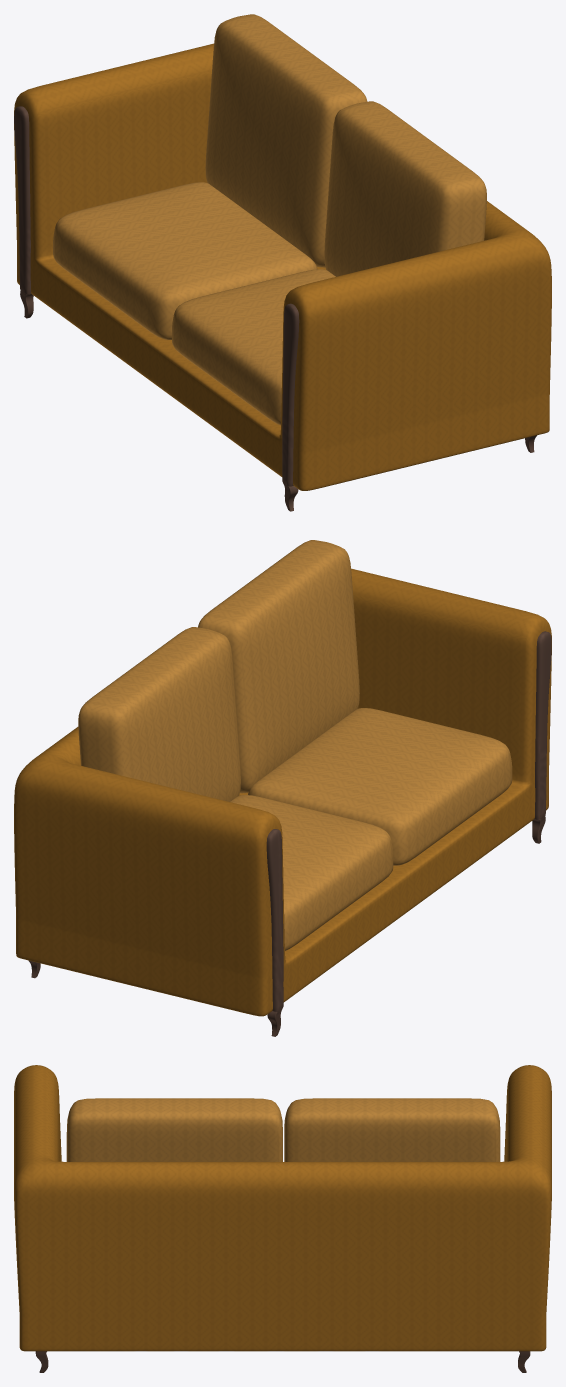
Rendered from Couch_Happy.fbx.
3 renders of one model, top to bottom at view 1: azimuth 30°, elevation 25°; view 2: azimuth 150°, elevation 25°; view 3: azimuth 270°, elevation 25°, orthographic. The views are drawn at different scales.
Parts seen in each view (by area): view 1: Couch_01; view 2: Couch_01; view 3: Couch_01.
Part boxes in pixels (<box>): Couch_01: <box>14,14,551,511</box>; Couch_01: <box>14,540,551,1036</box>; Couch_01: <box>14,1065,551,1372</box>.
Bounding box in the file's own units: 99.53 × 101 × 199.
